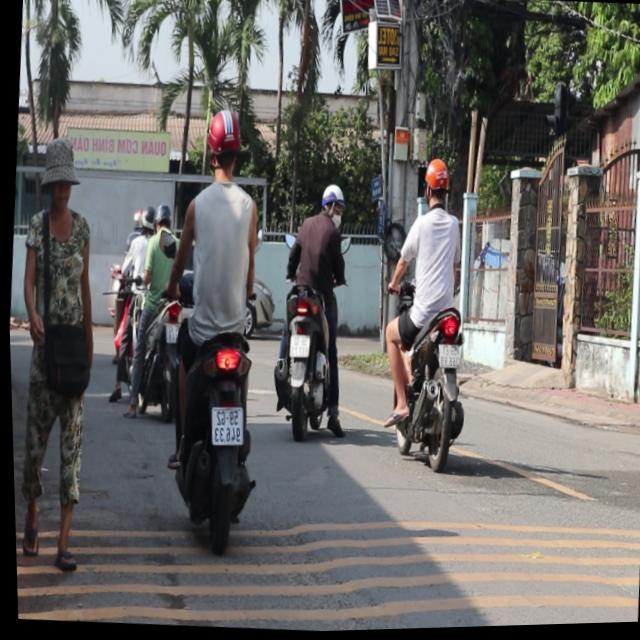helmet: (200, 106, 245, 181), (419, 157, 452, 213), (316, 183, 344, 225), (152, 201, 170, 230)
licenseplate: (145, 98, 284, 545), (368, 152, 482, 473), (261, 175, 358, 442), (115, 197, 187, 419)
nohelmet: (207, 405, 241, 445), (433, 346, 458, 371), (285, 335, 307, 357)
